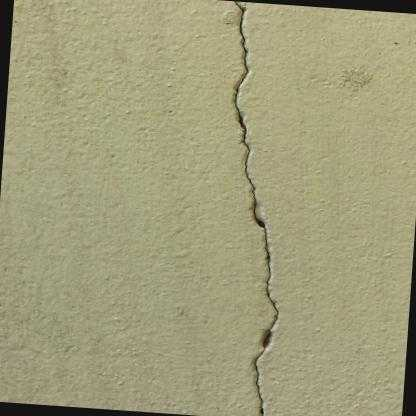crack: (229, 1, 283, 416)
